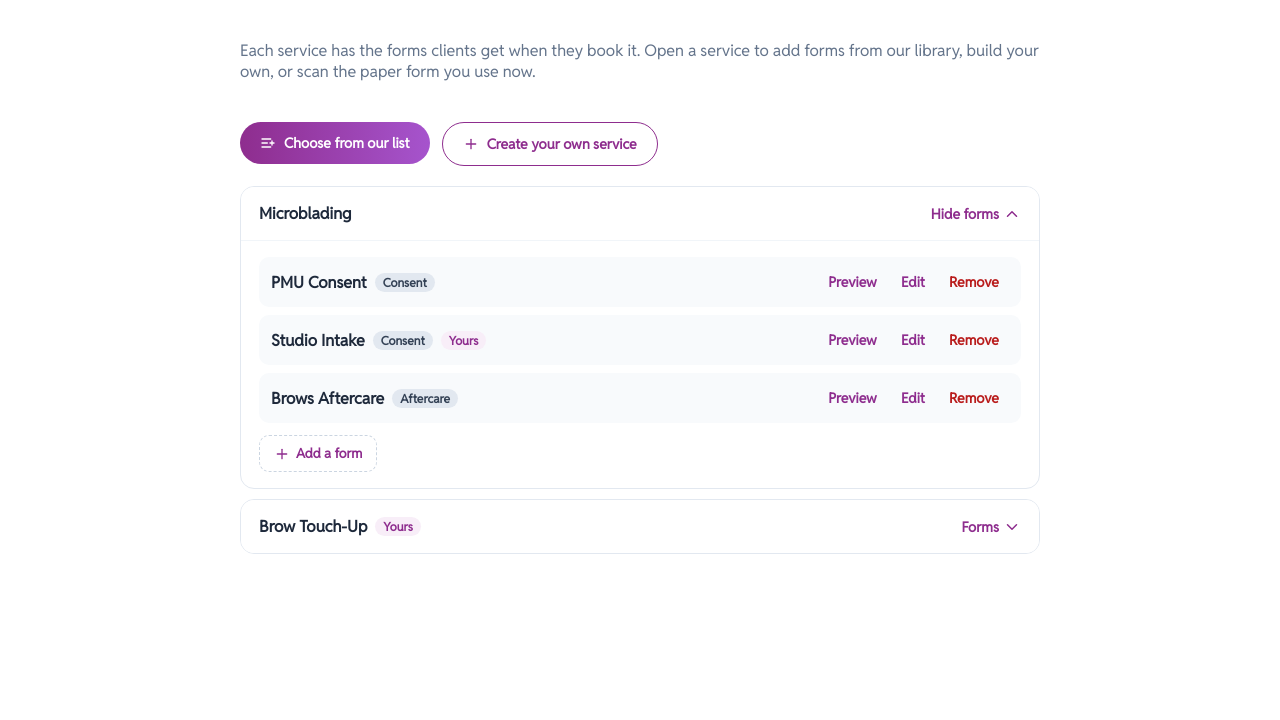
ServicesPage › adding a form › picks from the library and the artist's forms, skipping ones already on it
Expected: the list named "Forms for Microblading" is shown, [259, 257, 1021, 423]
Click the button "Add a form". click: point(318, 454)
box: [259, 435, 377, 472]
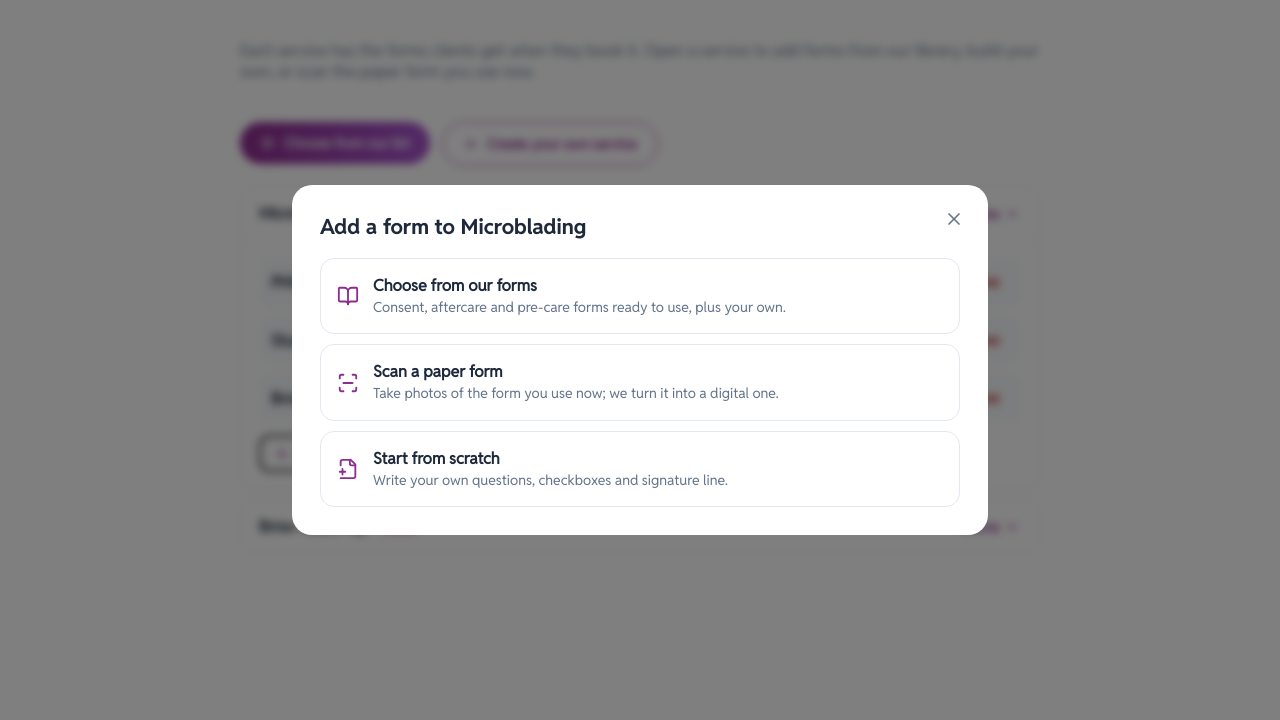
Click the button "Choose from our forms". click: point(640, 296)
box: [320, 258, 960, 334]
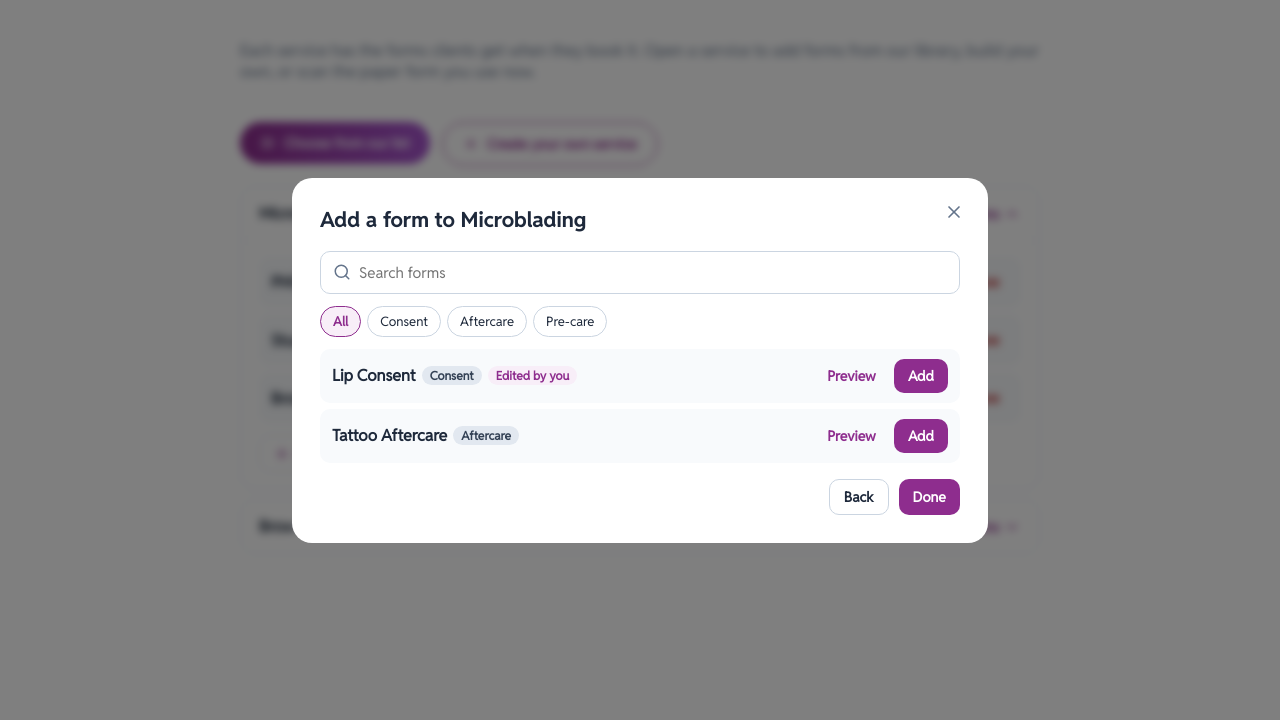
Expected: the list item "Lip Consent Consent Edited by you Preview Add" is shown, [320, 348, 960, 402]
Click the button "Aftercare". click: point(487, 321)
box: [447, 306, 527, 336]
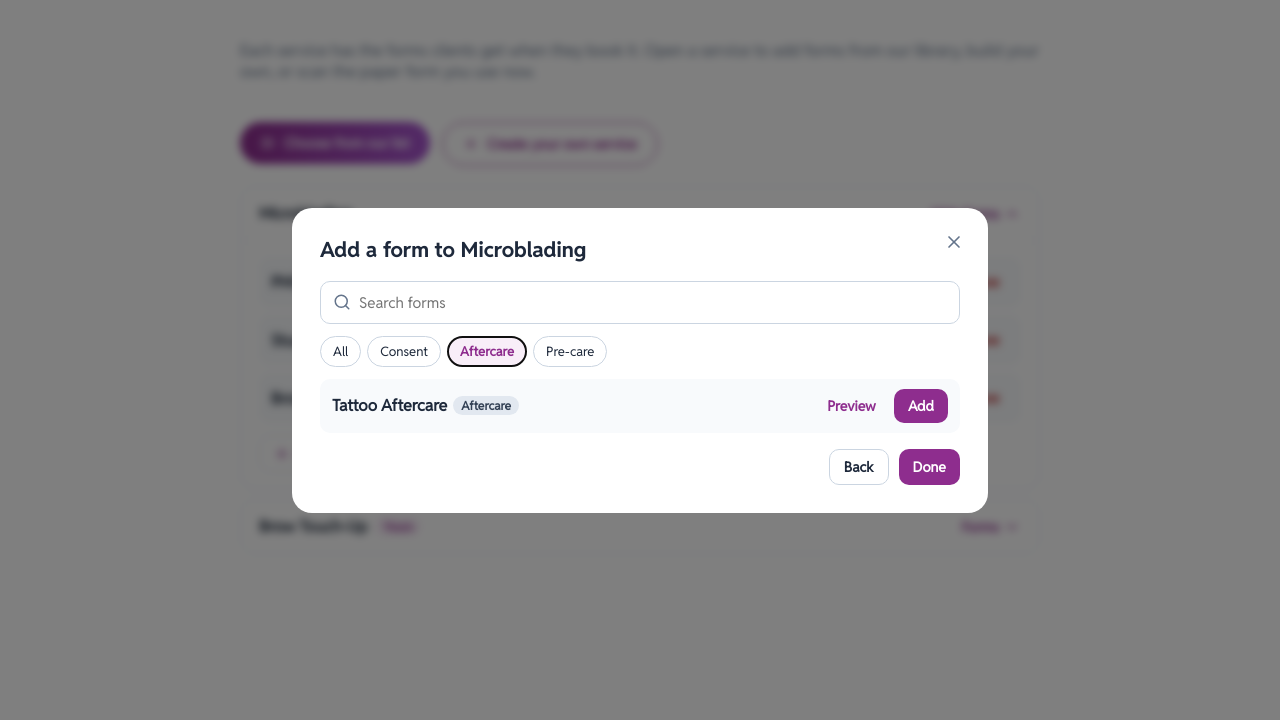
Click the button "All". click: point(341, 351)
box: [320, 336, 361, 366]
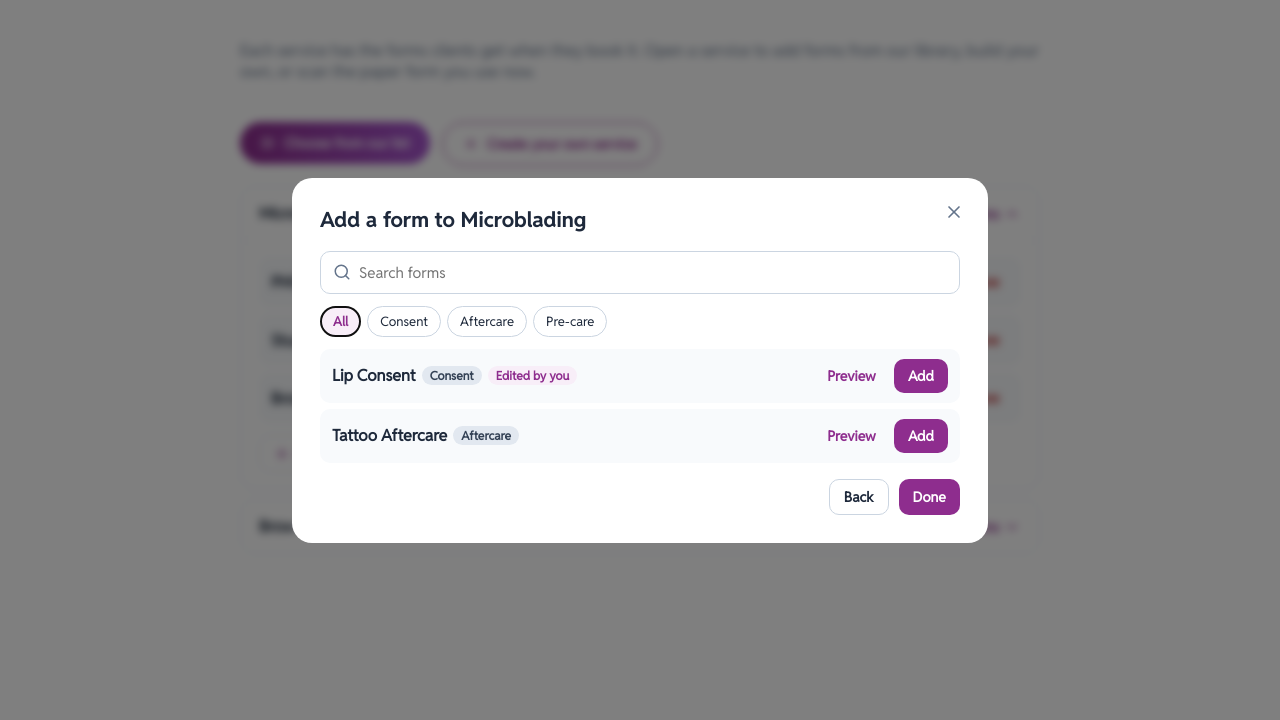
Click the button with aria-label "Add Lip Consent". click: point(921, 376)
box: [894, 358, 948, 392]
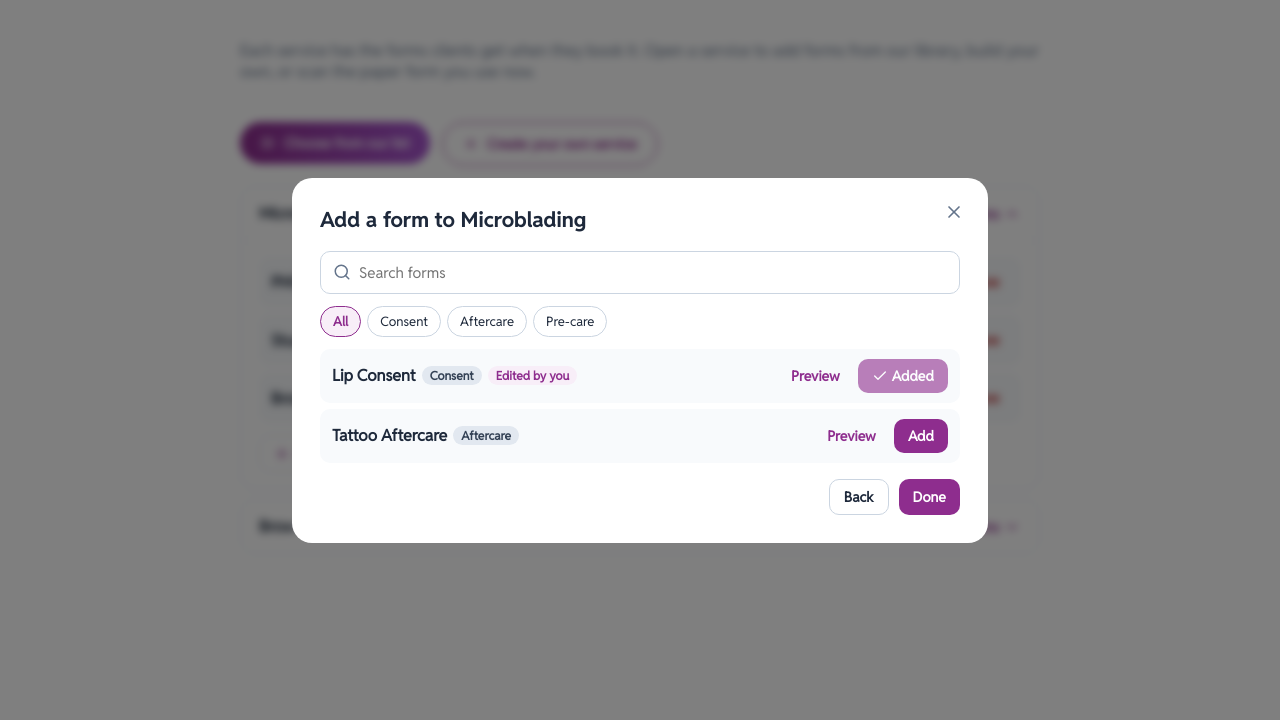
Expected: the button with aria-label "Lip Consent added" is disabled, [858, 358, 948, 392]
